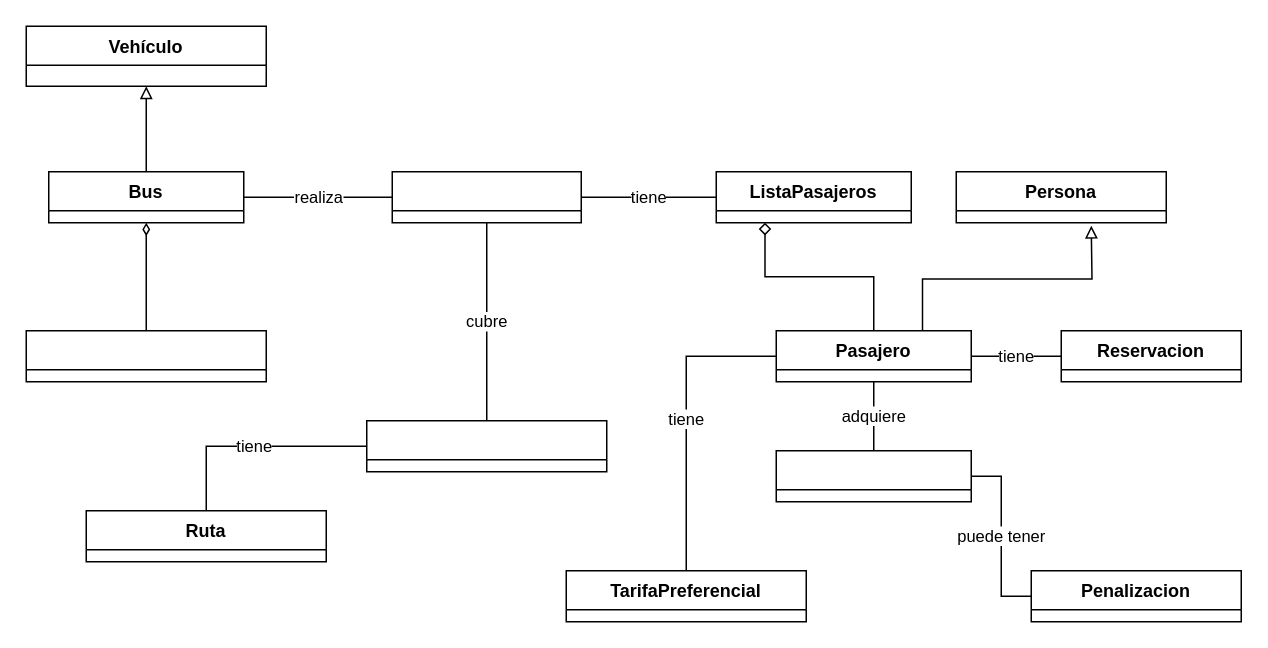
Some shapes in this 1268 by 648 pixel diagram are drawn without their labels. Here are the shapes that lost their labels. From the top down, the box of each, then its label:
(391, 170, 581, 223): Viaje
(25, 329, 266, 382): Asiento
(365, 419, 607, 472): Turno
(775, 449, 971, 502): Boleto
